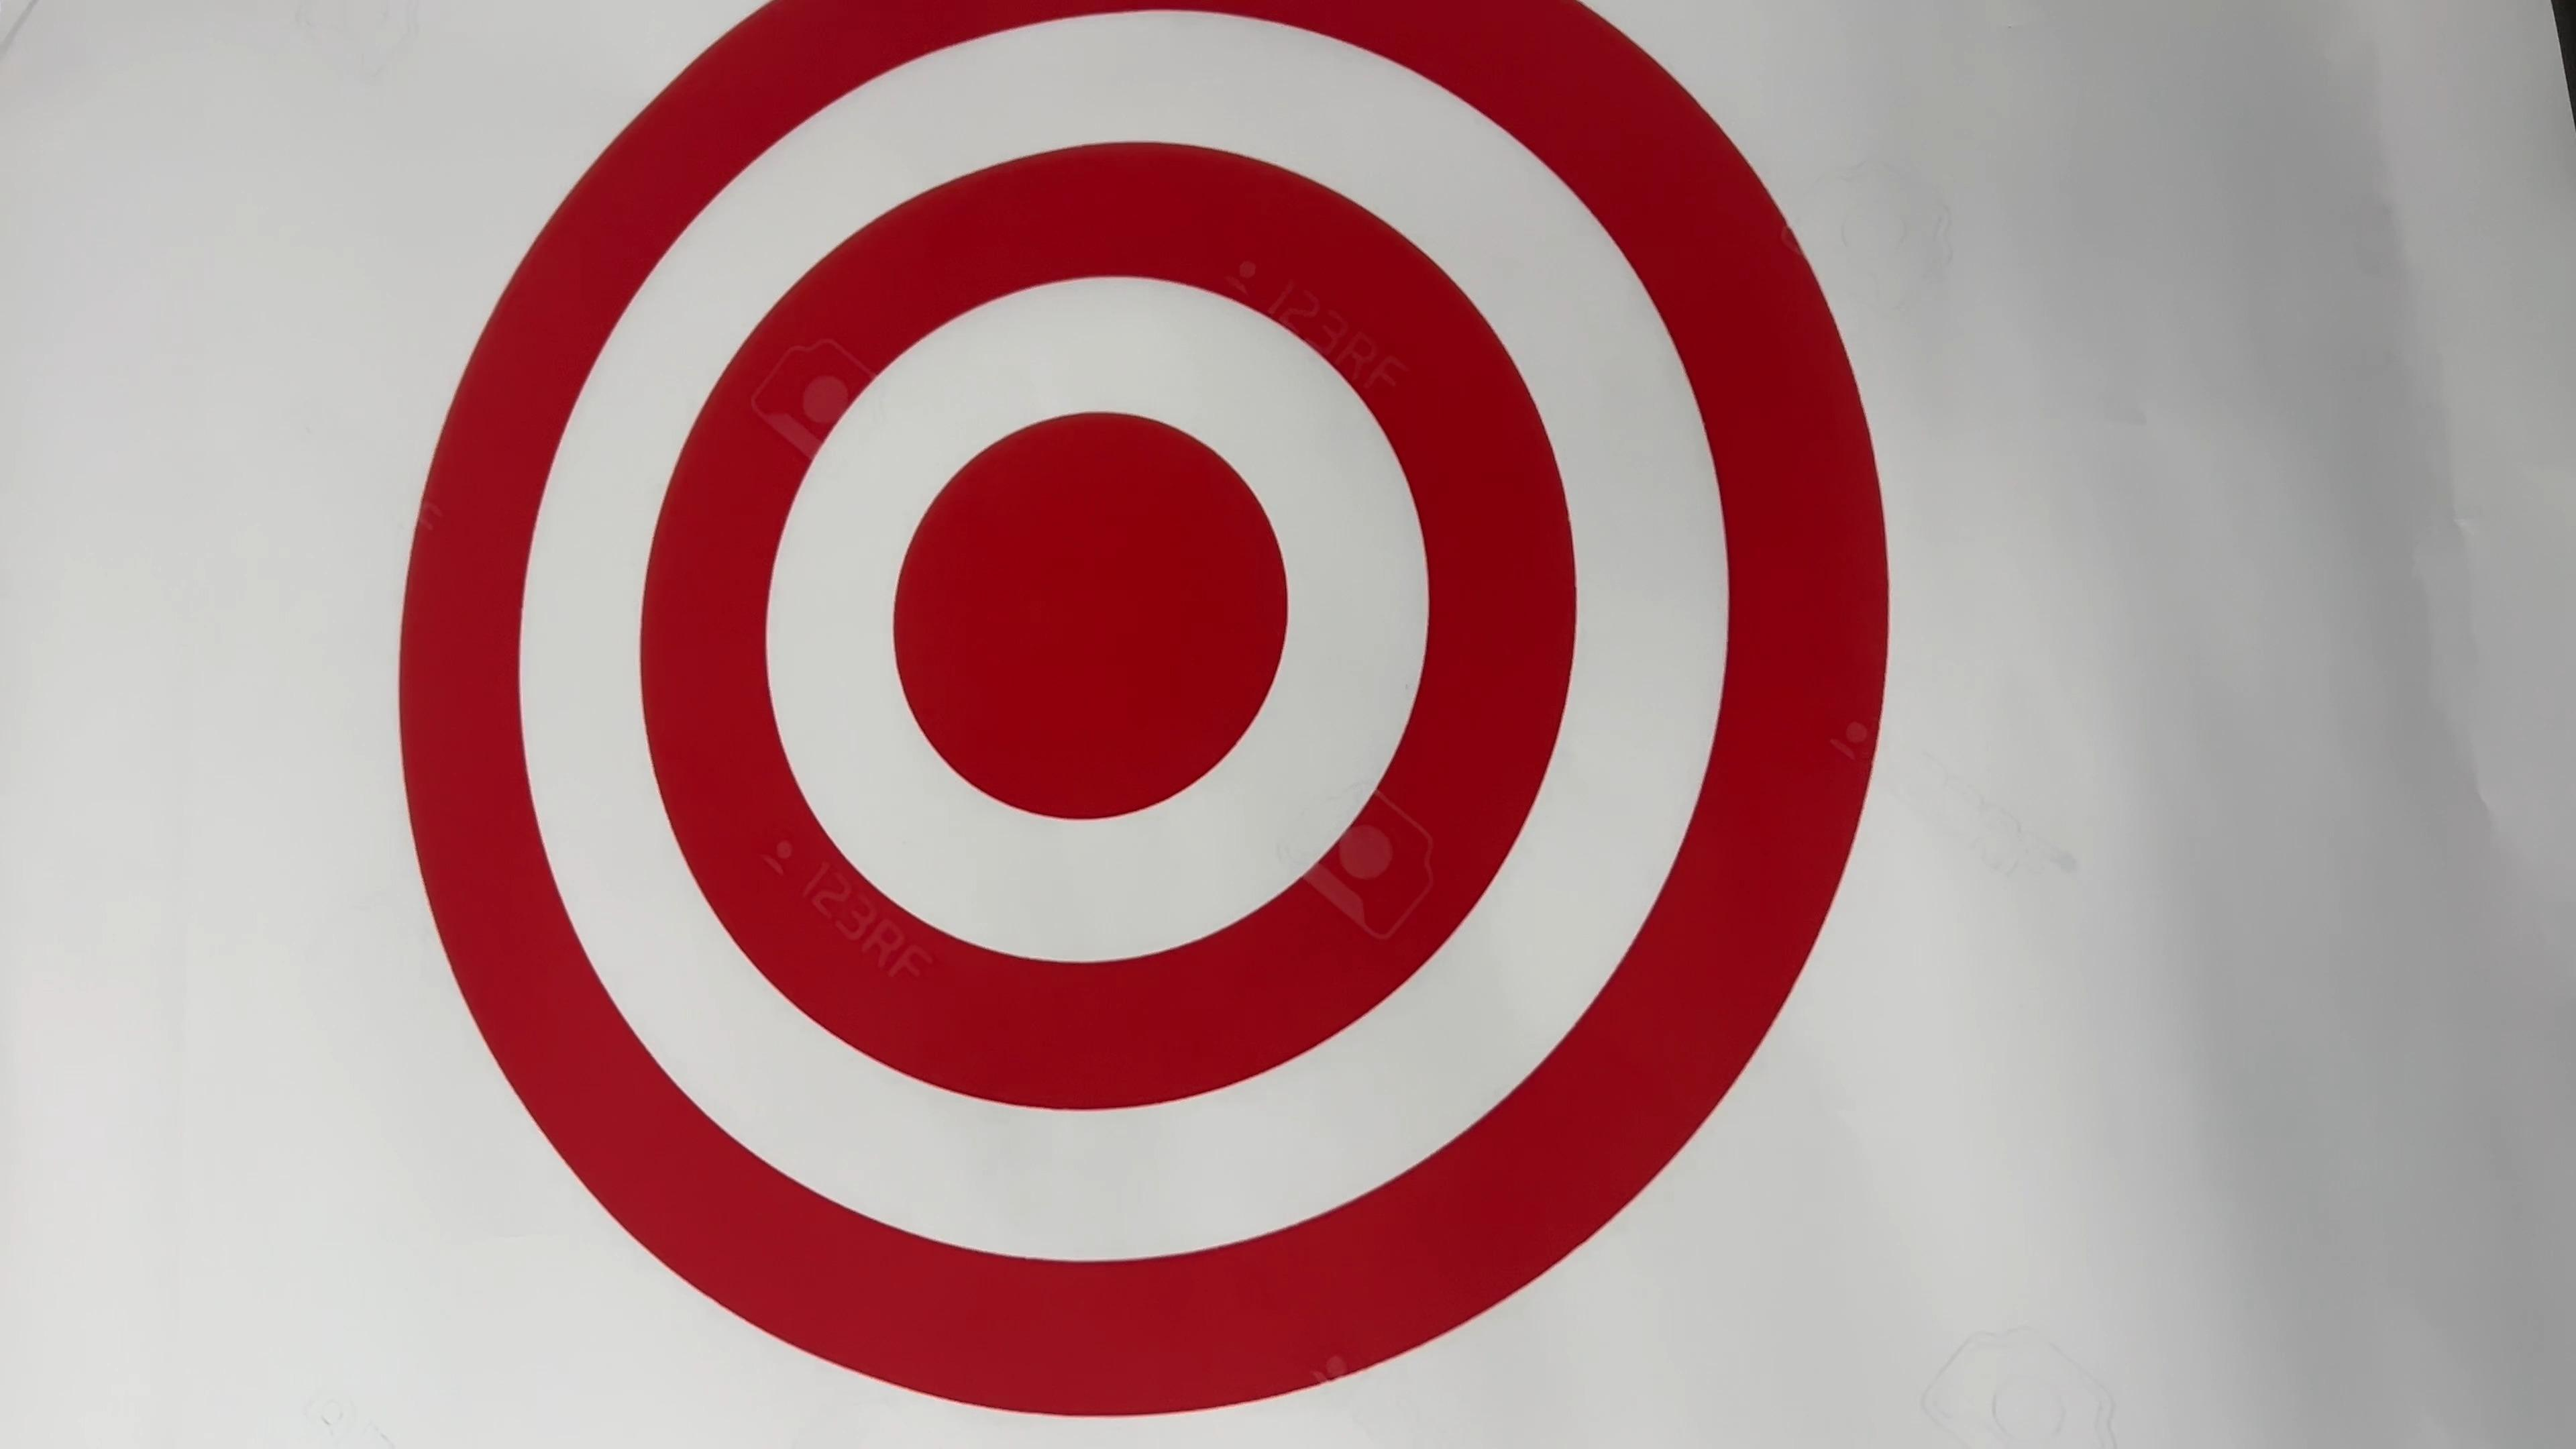target_red: (340, 0, 1900, 1449)
